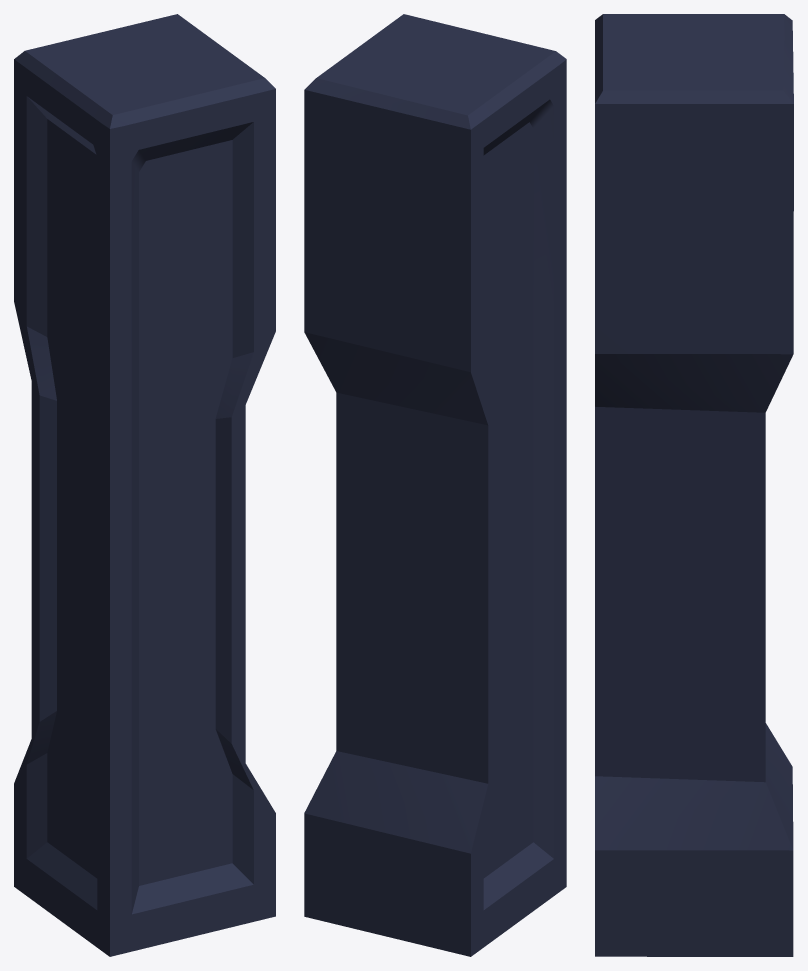
Rendered from Pillar_Full_Tall.fbx.
3 views of the same model, side by side, from view 1: azimuth 30°, elevation 25°; view 2: azimuth 150°, elevation 25°; view 3: azimuth 270°, elevation 25° (orthographic). The views are drawn at different scales.
Visible parts, largest first — view 1: Pillar_Full_Tall; view 2: Pillar_Full_Tall; view 3: Pillar_Full_Tall.
Boxes of the visible parts, bbox=[...] form: Pillar_Full_Tall: bbox=[14, 14, 275, 956]; Pillar_Full_Tall: bbox=[304, 14, 566, 956]; Pillar_Full_Tall: bbox=[595, 14, 793, 956].
Bounding box in the file's own units: 178 × 854 × 179.
